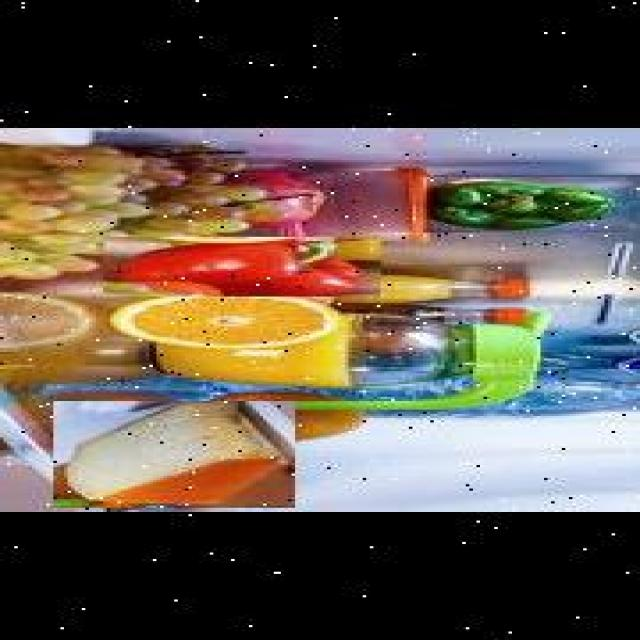bell_pepper: (99, 238, 377, 297), (418, 177, 624, 233)
cheese: (50, 401, 292, 508)
